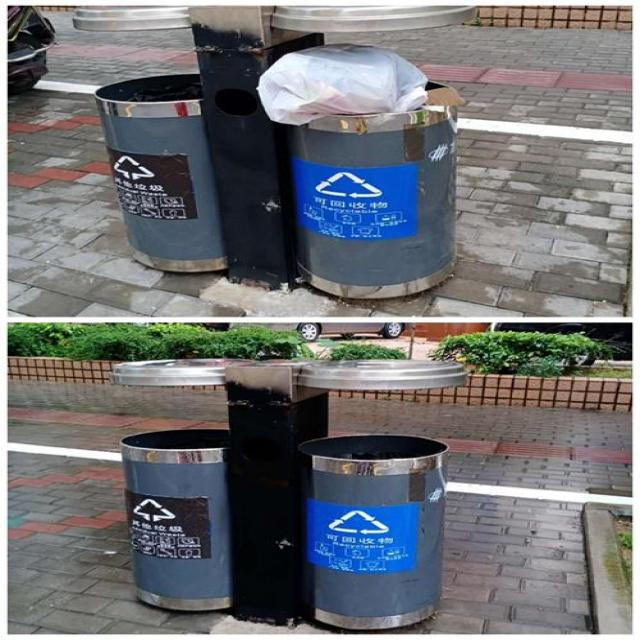garbage_bin: (110, 357, 465, 629)
overflow: (68, 6, 475, 298)
